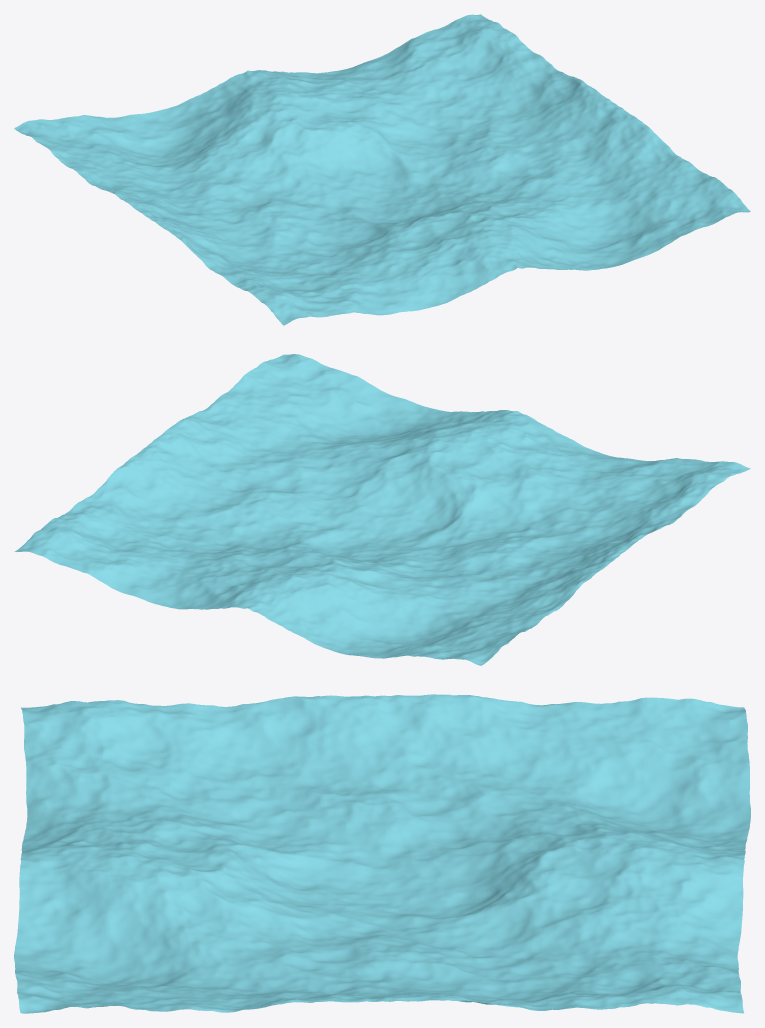
File: lake.fbx
3 views of the same model, one above another, from view 1: azimuth 30°, elevation 25°; view 2: azimuth 150°, elevation 25°; view 3: azimuth 270°, elevation 25° (orthographic). The views are drawn at different scales.
Parts seen in each view (by area): view 1: Plane; view 2: Plane; view 3: Plane.
Part boxes in pixels (<box>): Plane: <box>14,14,750,325</box>; Plane: <box>14,354,750,665</box>; Plane: <box>14,694,750,1013</box>.
Bounding box in the file's own units: 5048 × 391 × 5092.
